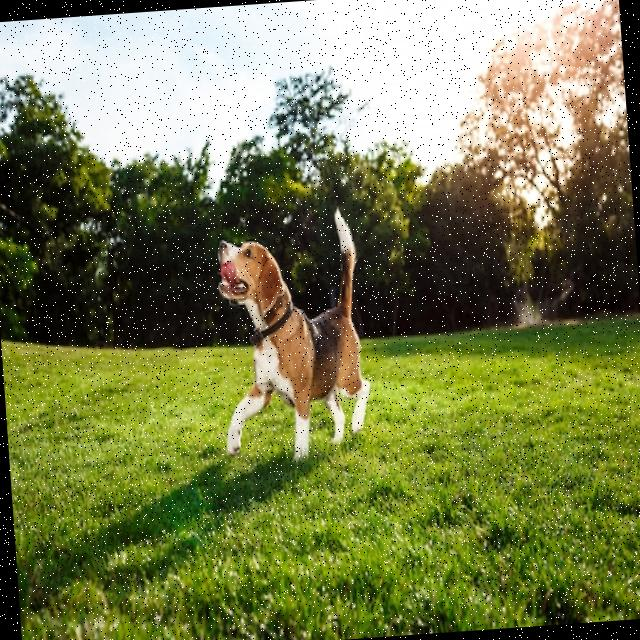Dog: (210, 208, 375, 464)
